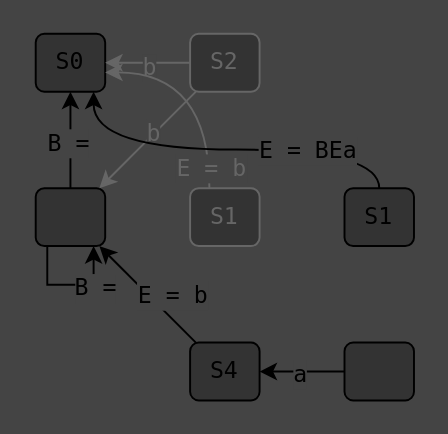
Some shapes in this 448 by 434 pixel diagram are drawn without their labels. The centre of each missing label's shape, as x and y in pixels:
S3: (69,216)
S5: (378,370)
